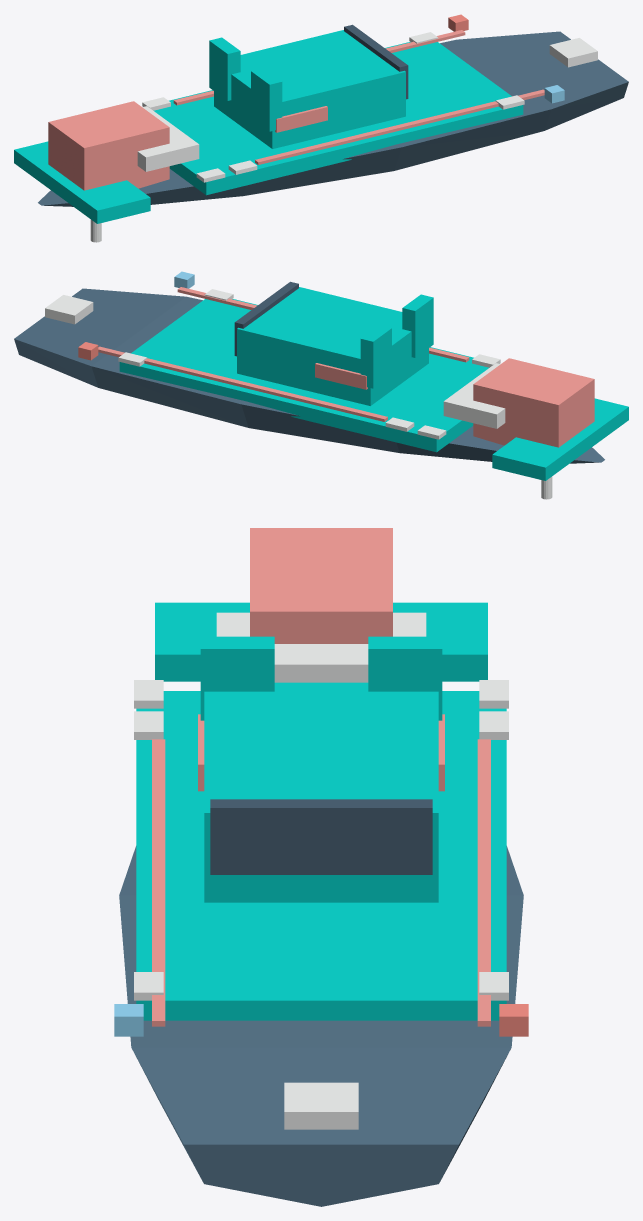
File: neptune_jet_sprint.glb
3 views of the same model, one above another, from view 1: azimuth 30°, elevation 25°; view 2: azimuth 150°, elevation 25°; view 3: azimuth 270°, elevation 25° (orthographic). The views are drawn at different scales.
Parts seen in each view (by area): view 1: 00_Sculpted_V_planing_hull, 01_Upper_deck, 02_Jet_boat_cockpit, 17_Outboard_engine_cowling, 22_Stern_swim_platform, 10_Racing_pinstripe, 23_Jet_intake_grille, 07_Seat_back, 05_Seat_back, 19_Bow_cleat, 03_Wraparound_windscreen, 06_Sport_bucket_seat (+1 smaller); view 2: 00_Sculpted_V_planing_hull, 01_Upper_deck, 02_Jet_boat_cockpit, 17_Outboard_engine_cowling, 22_Stern_swim_platform, 09_Racing_pinstripe, 23_Jet_intake_grille, 05_Seat_back, 07_Seat_back, 19_Bow_cleat, 03_Wraparound_windscreen, 04_Sport_bucket_seat (+1 smaller); view 3: 01_Upper_deck, 00_Sculpted_V_planing_hull, 02_Jet_boat_cockpit, 03_Wraparound_windscreen, 17_Outboard_engine_cowling, 22_Stern_swim_platform, 23_Jet_intake_grille, 05_Seat_back, 07_Seat_back, 09_Racing_pinstripe, 10_Racing_pinstripe, 19_Bow_cleat (+2 smaller).
Boxes of the visible parts, <box> form: 00_Sculpted_V_planing_hull: <box>38,31,628,206</box>; 01_Upper_deck: <box>153,42,523,195</box>; 02_Jet_boat_cockpit: <box>214,30,405,148</box>; 17_Outboard_engine_cowling: <box>48,101,169,190</box>; 22_Stern_swim_platform: <box>14,141,150,223</box>; 10_Racing_pinstripe: <box>255,89,544,164</box>; 23_Jet_intake_grille: <box>137,106,199,171</box>; 07_Seat_back: <box>251,68,282,131</box>; 05_Seat_back: <box>209,37,240,100</box>; 19_Bow_cleat: <box>549,38,597,67</box>; 03_Wraparound_windscreen: <box>344,24,408,99</box>; 06_Sport_bucket_seat: <box>275,106,327,132</box>; 00_Sculpted_V_planing_hull: <box>14,288,604,463</box>; 01_Upper_deck: <box>119,299,489,452</box>; 02_Jet_boat_cockpit: <box>237,287,428,405</box>; 17_Outboard_engine_cowling: <box>473,358,594,447</box>; 22_Stern_swim_platform: <box>492,398,628,480</box>; 09_Racing_pinstripe: <box>98,346,387,421</box>; 23_Jet_intake_grille: <box>443,363,505,428</box>; 05_Seat_back: <box>360,325,391,388</box>; 07_Seat_back: <box>402,294,433,357</box>; 19_Bow_cleat: <box>45,295,93,324</box>; 03_Wraparound_windscreen: <box>234,281,298,356</box>; 04_Sport_bucket_seat: <box>315,363,367,389</box>; 01_Upper_deck: <box>136,691,506,1020</box>; 00_Sculpted_V_planing_hull: <box>119,846,523,1206</box>; 02_Jet_boat_cockpit: <box>204,682,438,902</box>; 03_Wraparound_windscreen: <box>210,799,432,874</box>; 17_Outboard_engine_cowling: <box>250,528,392,643</box>; 22_Stern_swim_platform: <box>155,602,487,681</box>; 23_Jet_intake_grille: <box>216,612,426,682</box>; 05_Seat_back: <box>368,636,442,720</box>; 07_Seat_back: <box>200,636,274,720</box>; 09_Racing_pinstripe: <box>477,739,490,1026</box>; 10_Racing_pinstripe: <box>152,739,165,1026</box>; 19_Bow_cleat: <box>284,1082,358,1129</box>.
Size of the model in its own units: 5.19 by 1.27 by 1.68.
